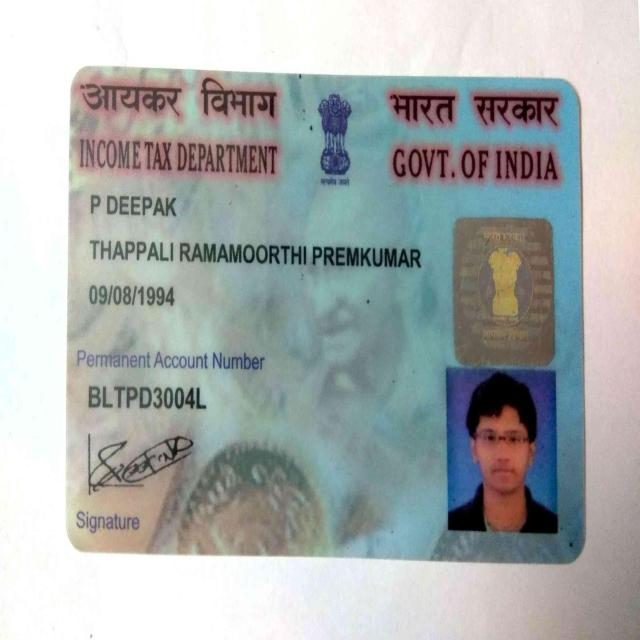pan_card: (67, 74, 581, 558)
